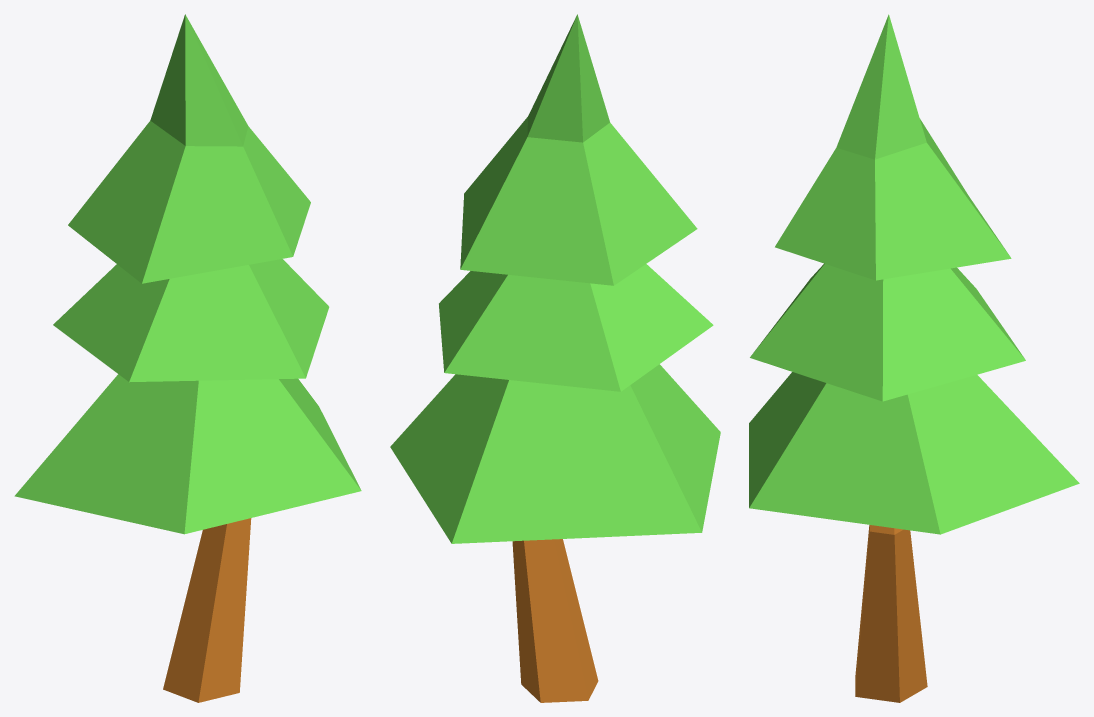
The model's file is 針葉樹.fbx.
3 renders of one model, left to right at view 1: azimuth 30°, elevation 25°; view 2: azimuth 150°, elevation 25°; view 3: azimuth 270°, elevation 25°, orthographic. The views are drawn at different scales.
Parts seen in each view (by area): view 1: Tree; view 2: Tree; view 3: Tree.
Boxes of the visible parts, x1=… form: Tree: x1=14, y1=14, x2=361, y2=702; Tree: x1=390, y1=14, x2=720, y2=702; Tree: x1=749, y1=14, x2=1079, y2=702.
Bounding box in the file's own units: 191 × 400 × 180.
